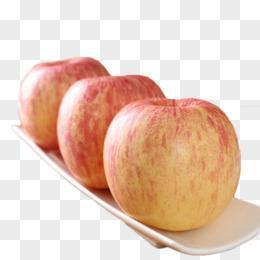apple: (105, 96, 241, 231), (55, 73, 170, 190), (19, 54, 110, 151)
